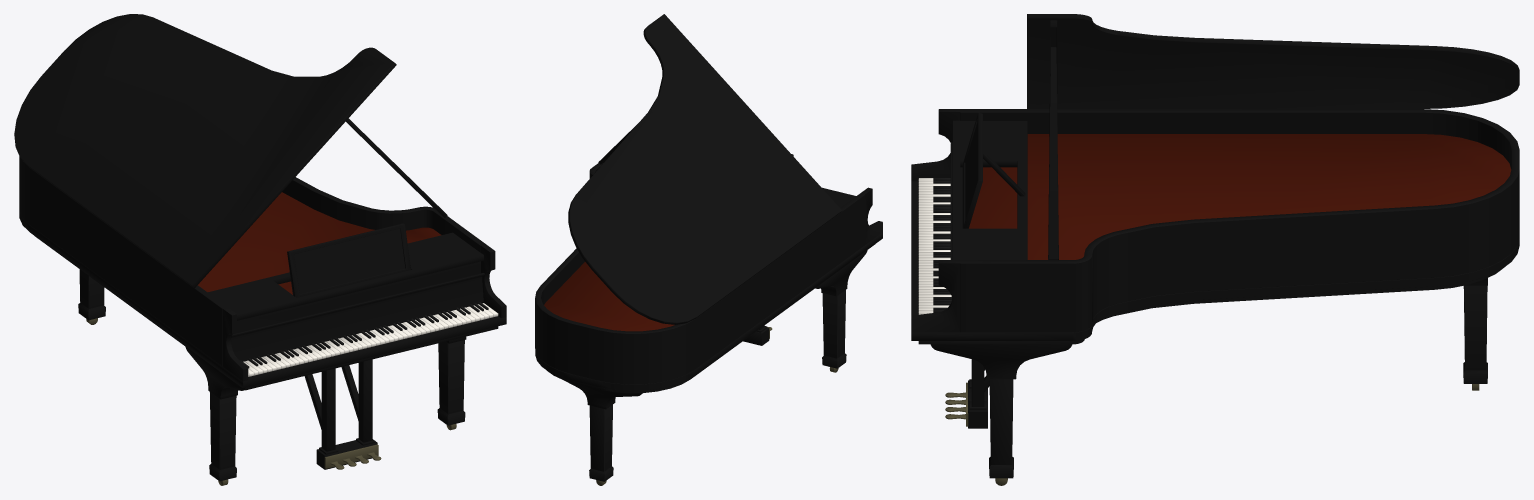
The model's file is Piano.fbx.
3 views of the same model, side by side, from view 1: azimuth 30°, elevation 25°; view 2: azimuth 150°, elevation 25°; view 3: azimuth 270°, elevation 25° (orthographic). The views are drawn at different scales.
Visible parts, largest first — view 1: _1, _2, _3, _4, _21; view 2: _1, _2; view 3: _1, _2, _3, _4, _21.
Part boxes in pixels (x1,y1,x2,y2): _1: [14, 14, 506, 481]; _2: [198, 192, 441, 294]; _3: [243, 303, 498, 376]; _4: [240, 302, 488, 368]; _21: [86, 318, 456, 485]; _1: [535, 14, 882, 481]; _2: [544, 262, 674, 331]; _1: [911, 14, 1519, 478]; _2: [969, 134, 1511, 259]; _3: [918, 178, 951, 314]; _4: [933, 178, 951, 312]; _21: [945, 382, 1479, 485].
Size of the model in its own units: 152 by 202 by 251.
